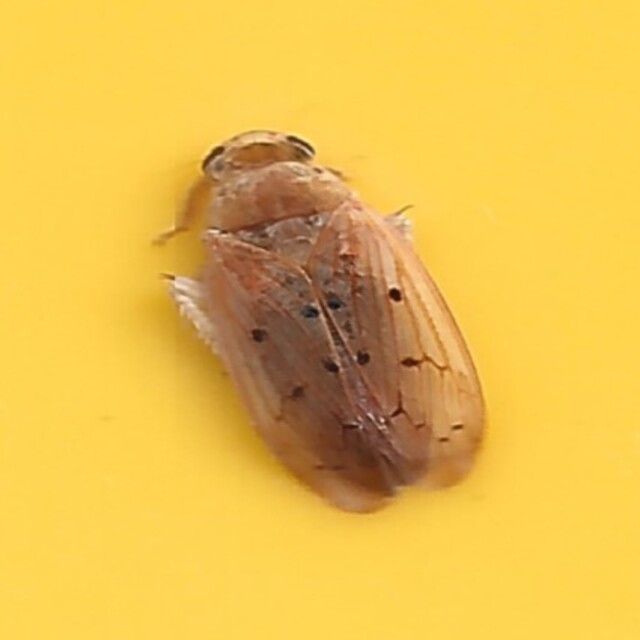Hemiptera: (151, 125, 489, 515)
